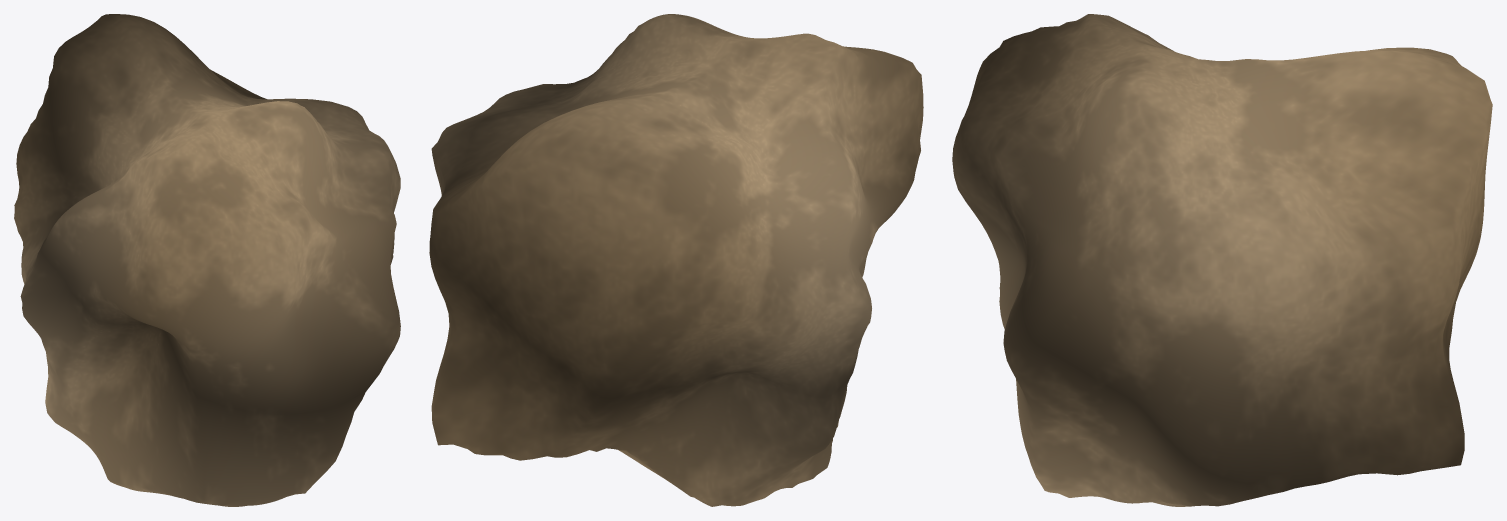
The model's file is asteroid-debris.glb.
The picture shows the model from 3 angles, left to right: view 1: azimuth 30°, elevation 25°; view 2: azimuth 150°, elevation 25°; view 3: azimuth 270°, elevation 25°; orthographic projection. The views are drawn at different scales.
Visible parts, largest first — view 1: asteroid_5006; view 2: asteroid_5006; view 3: asteroid_5006.
Boxes of the visible parts, left/top/right/bottom form: asteroid_5006: left=14, top=14, right=400, bottom=506; asteroid_5006: left=429, top=14, right=923, bottom=506; asteroid_5006: left=952, top=14, right=1492, bottom=506.
Bounding box in the file's own units: 30.16 × 30.67 × 33.68.
1 material, 1 textured.
